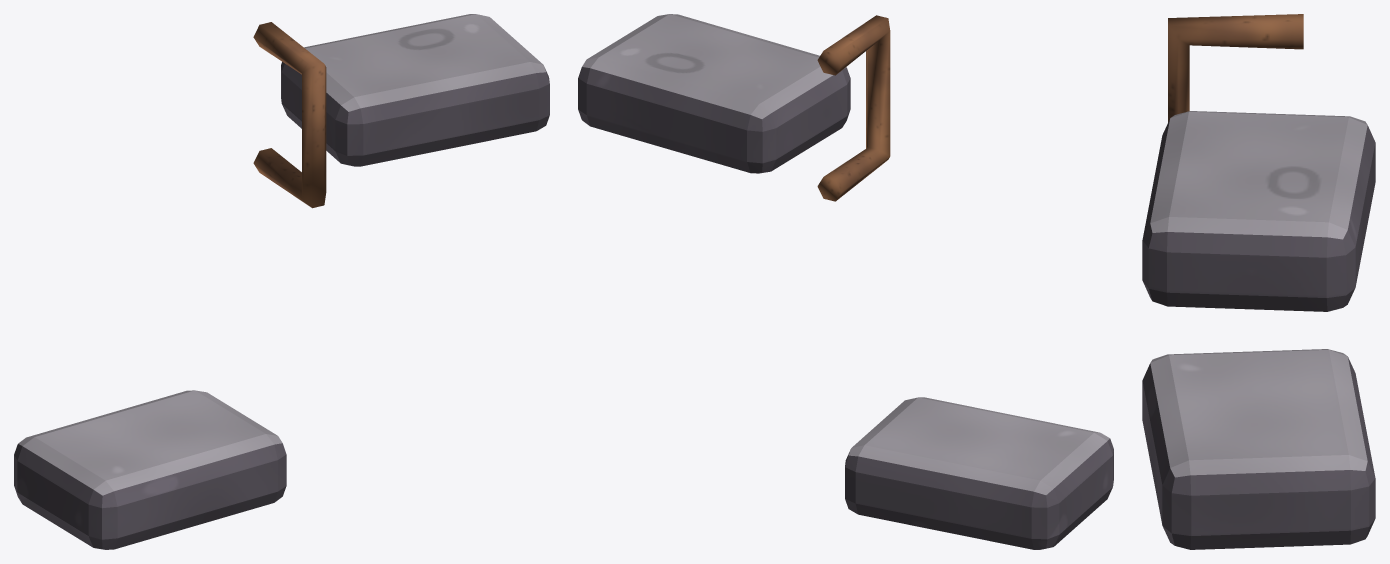
The model's file is tower_holds.glb.
3 views of the same model, side by side, from view 1: azimuth 30°, elevation 25°; view 2: azimuth 150°, elevation 25°; view 3: azimuth 270°, elevation 25° (orthographic). The views are drawn at different scales.
Parts seen in each view (by area): view 1: TowerHolds; view 2: TowerHolds; view 3: TowerHolds.
Part boxes in pixels (x1,y1,x2,y2): TowerHolds: (14,14,549,549); TowerHolds: (578,14,1113,549); TowerHolds: (1142,14,1375,549).
Bounding box in the file's own units: 0.7933 × 0.6923 × 0.2616.
1 material, 1 textured.
